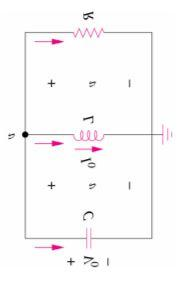inductor: (61, 125, 110, 143)
